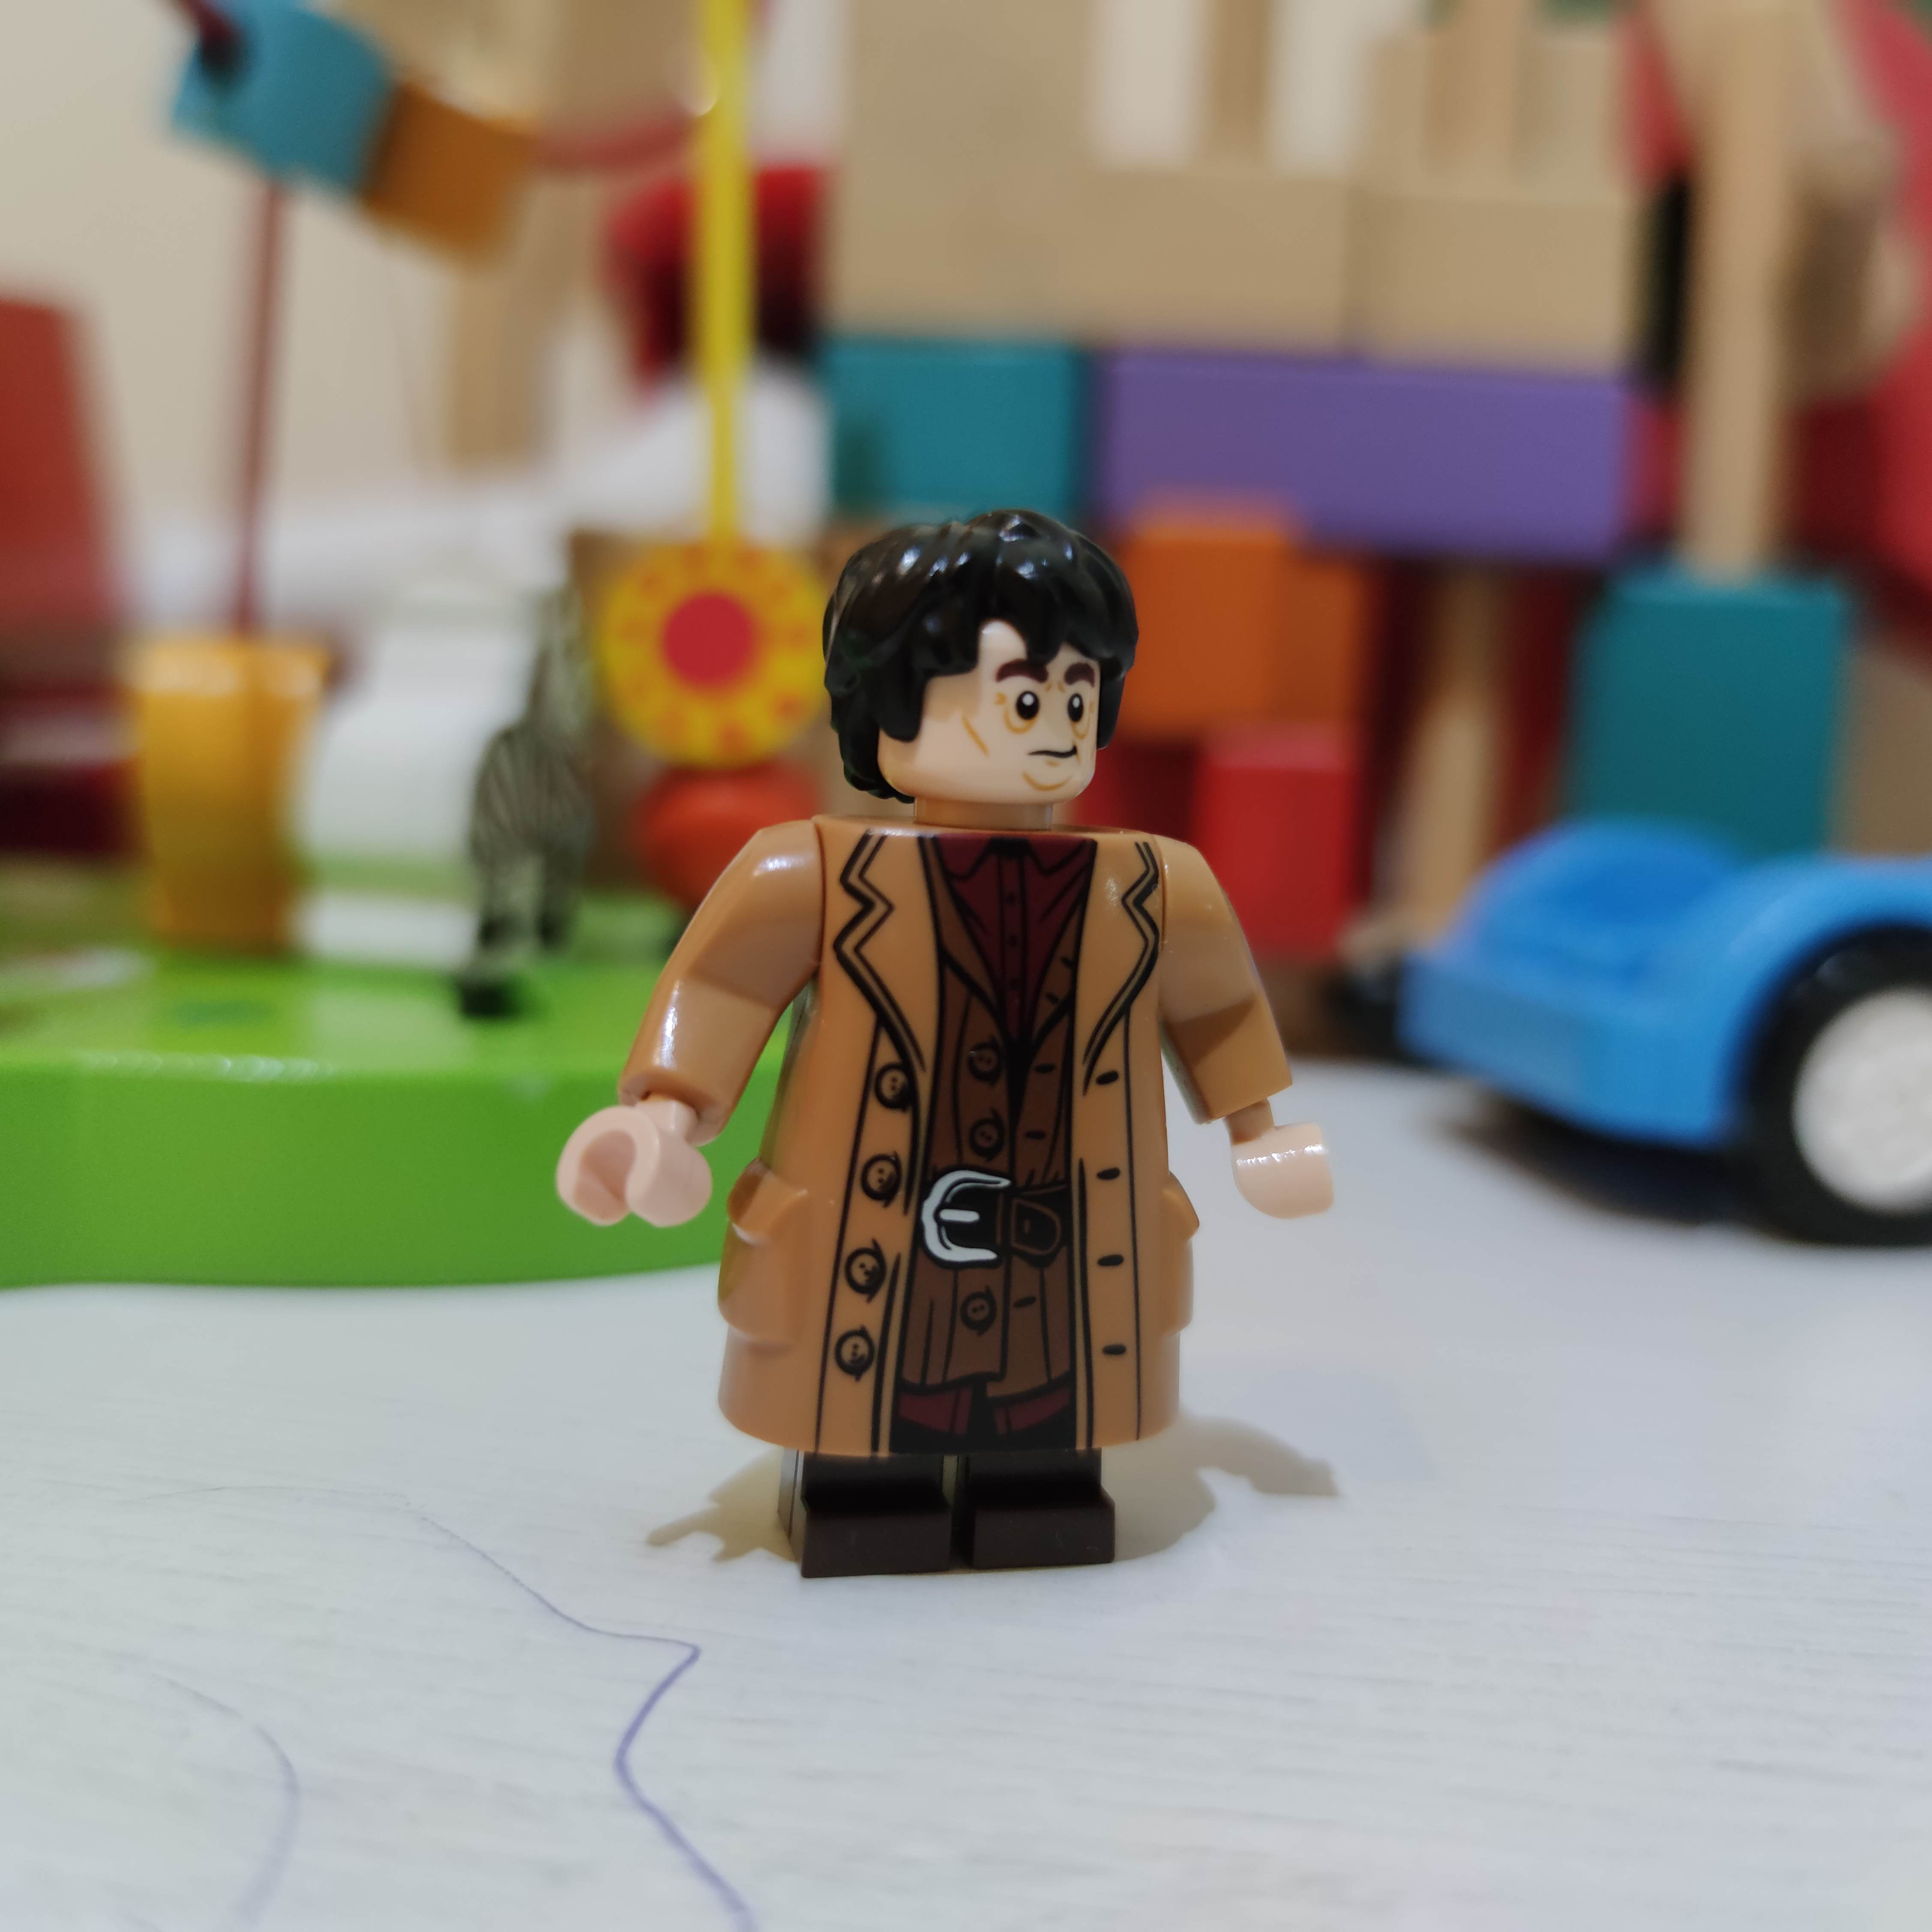lego: (545, 504, 1334, 1592)
